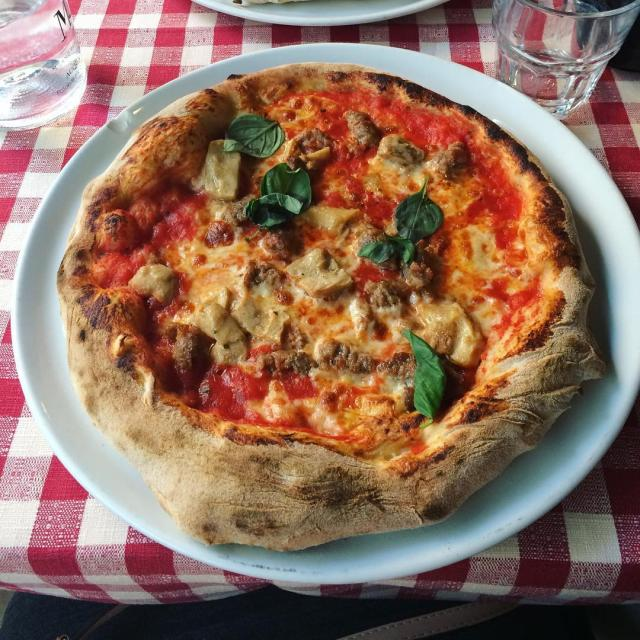basil: (244, 162, 312, 245), (402, 327, 456, 423), (394, 175, 444, 240), (222, 113, 285, 160), (245, 193, 304, 228), (356, 240, 400, 268), (384, 230, 416, 266)
pizza: (52, 59, 613, 556)
